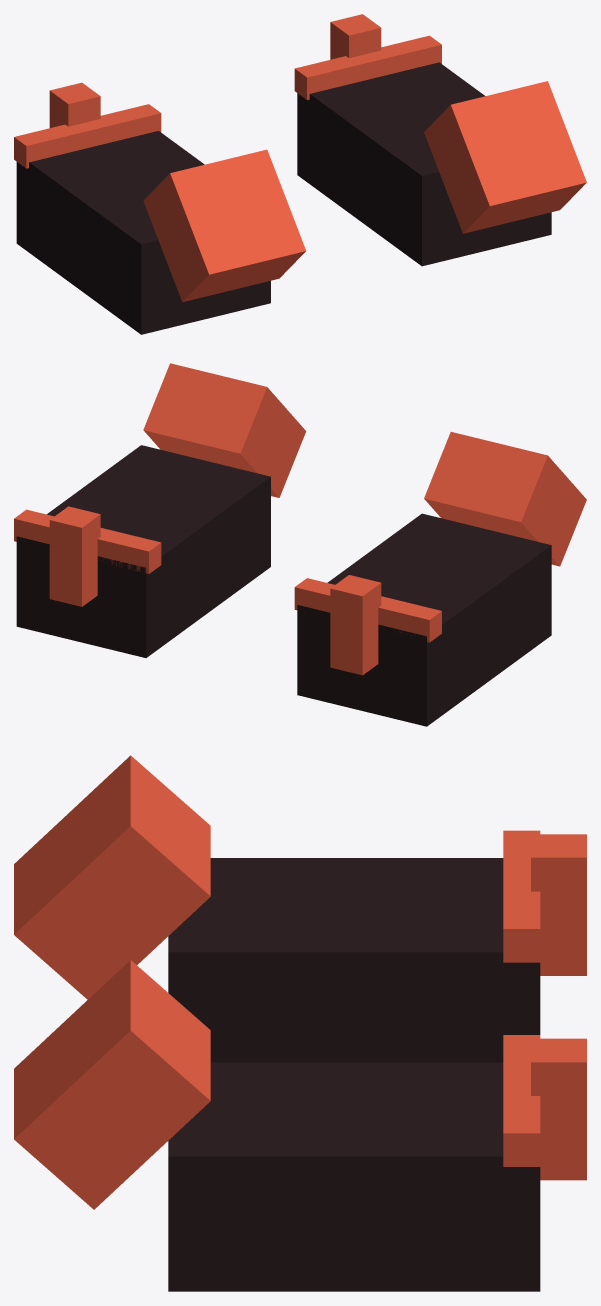
The model's file is gear_sin_t4.glb.
The picture shows the model from 3 angles, top to bottom: view 1: azimuth 30°, elevation 25°; view 2: azimuth 150°, elevation 25°; view 3: azimuth 270°, elevation 25°; orthographic projection. The views are drawn at different scales.
Parts seen in each view (by area): view 1: gear_sin_t4; view 2: gear_sin_t4; view 3: gear_sin_t4.
Boxes of the visible parts, left/top/right/bottom form: gear_sin_t4: left=14, top=14, right=586, bottom=334; gear_sin_t4: left=14, top=363, right=586, bottom=726; gear_sin_t4: left=14, top=755, right=586, bottom=1291.
Bounding box in the file's own units: 0.385 × 0.1478 × 0.3079.
